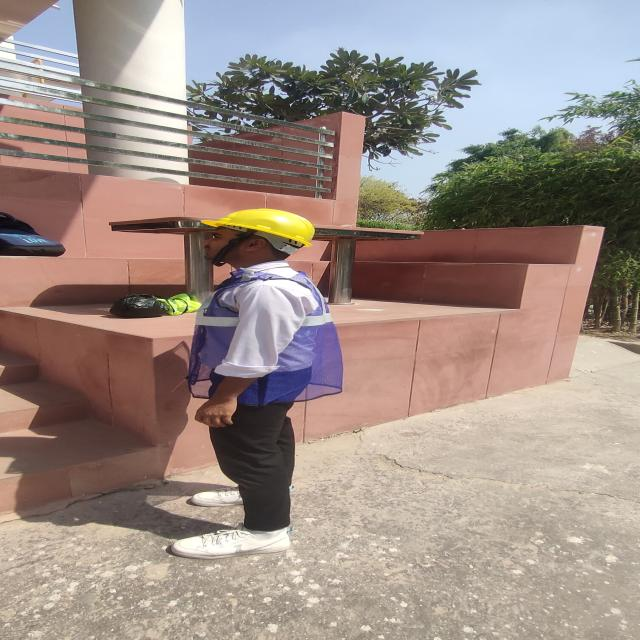safe: (173, 209, 342, 559)
